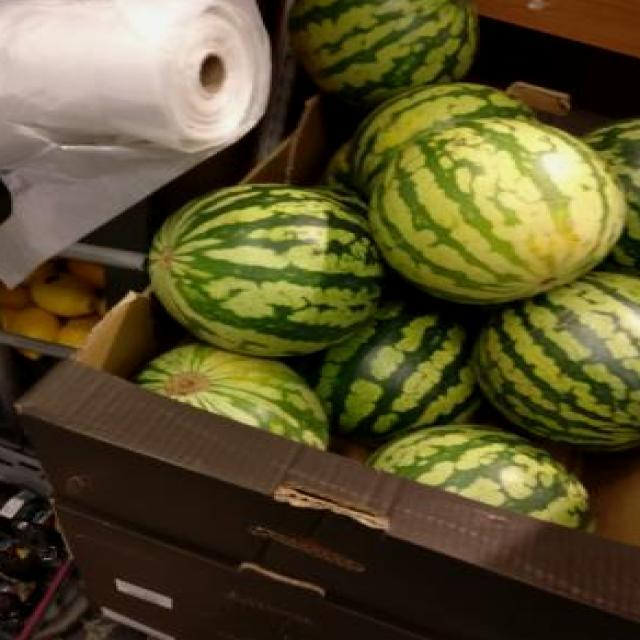Watermelon: (377, 117, 622, 306), (146, 185, 382, 358), (473, 272, 640, 445), (304, 308, 478, 438), (287, 0, 489, 102), (133, 346, 324, 453)
